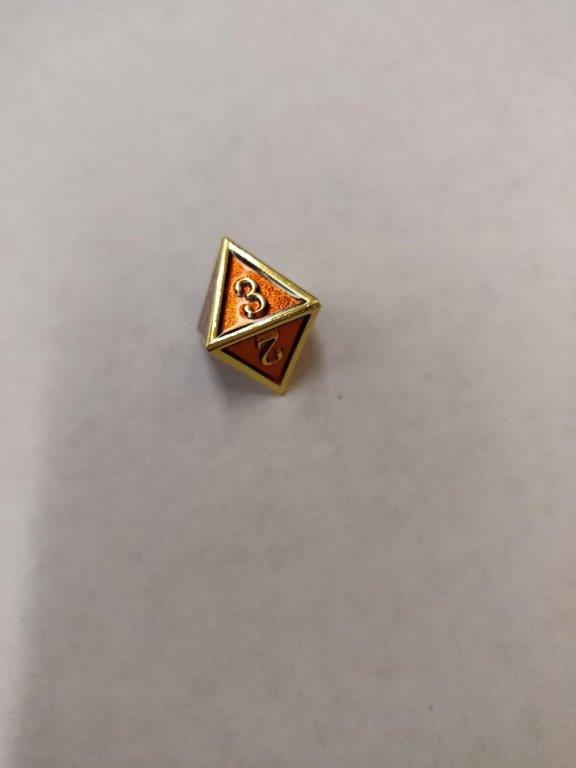d8-3: (193, 236, 325, 397)
